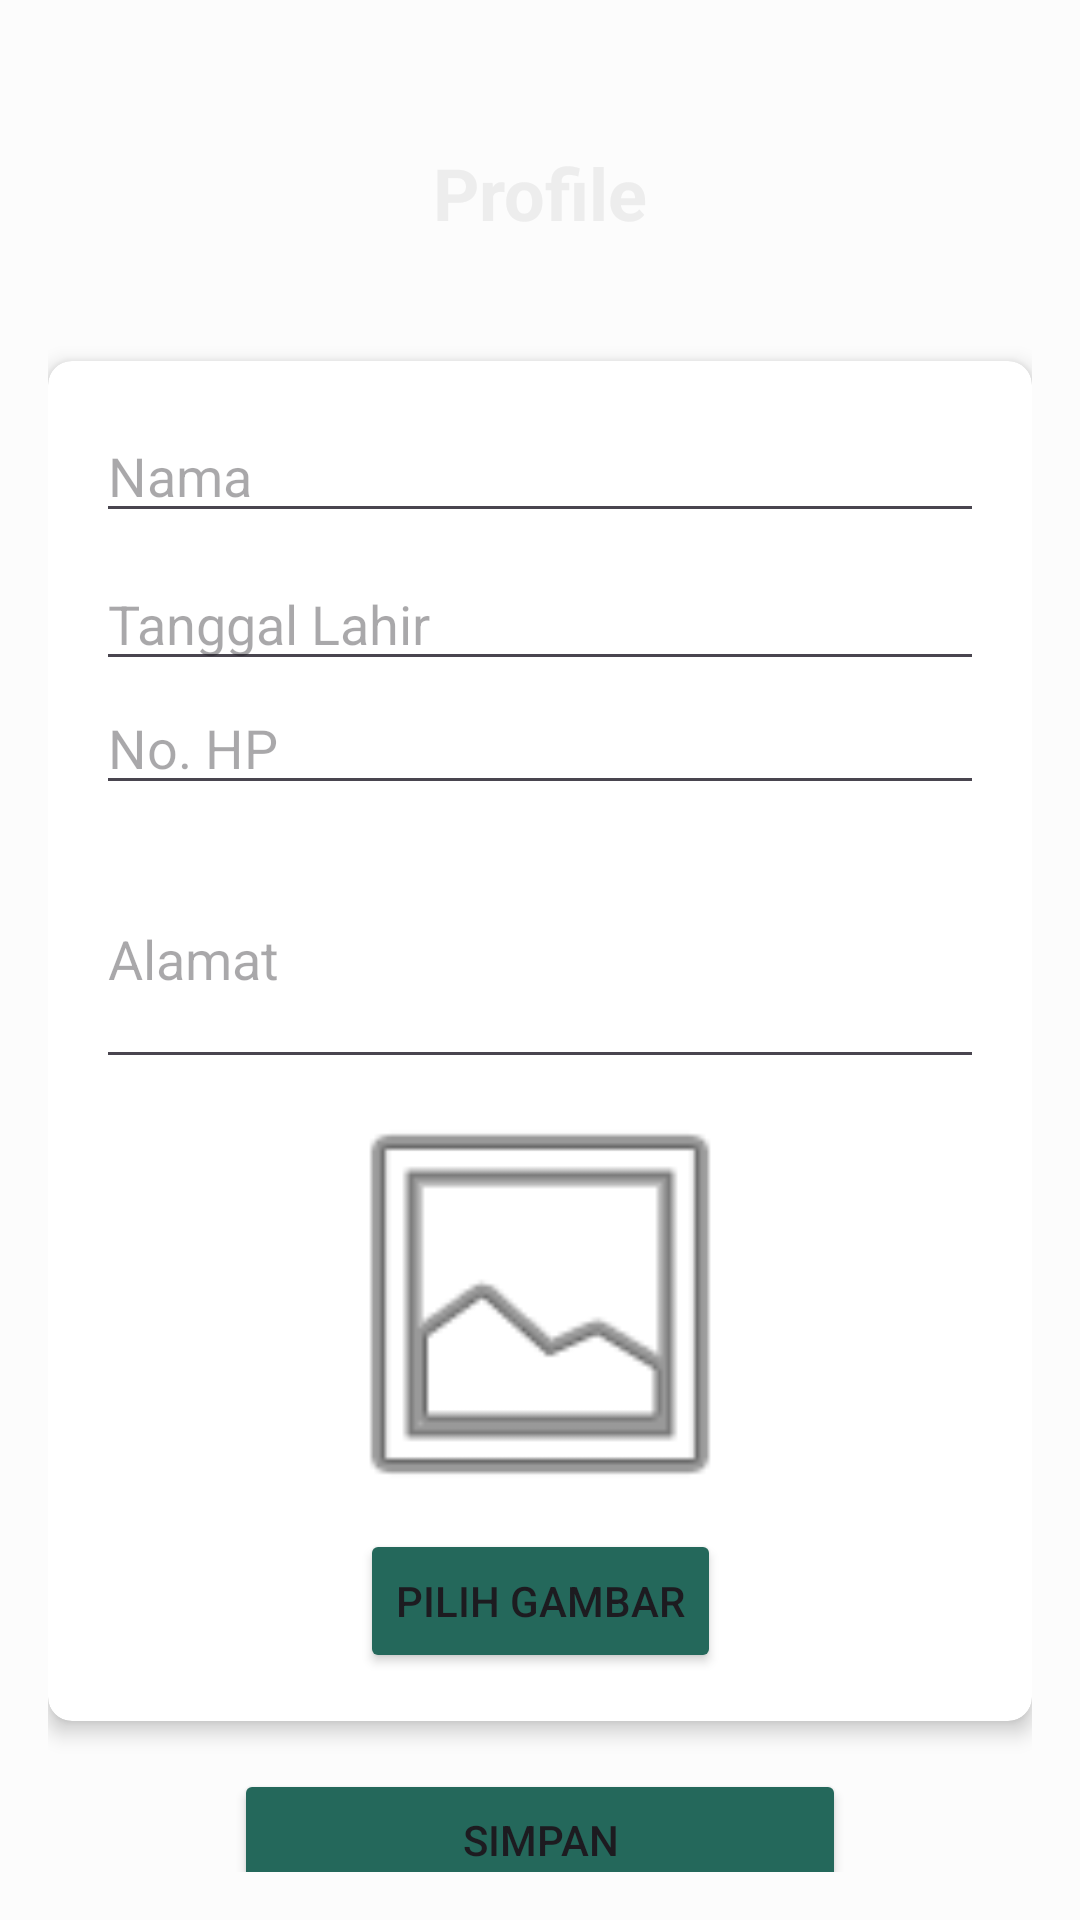

Screen size 1080px x 1920px. Icon name, then its center in pixels as [x,y]:
gallery: [540,1304]
